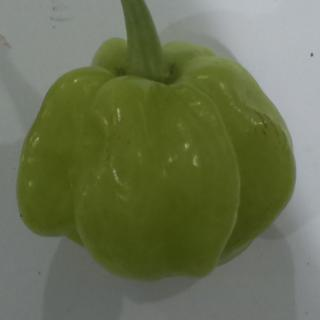Grade-B: (8, 36, 300, 283)
